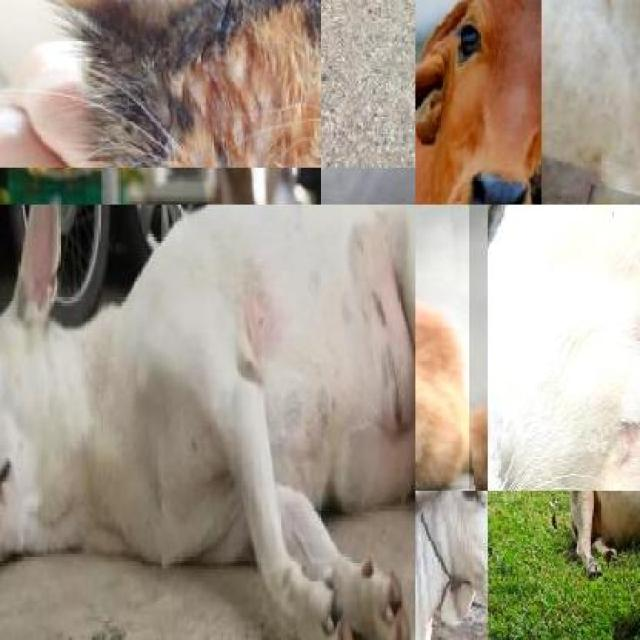cat: (0, 0, 320, 168), (487, 204, 640, 490)
cow: (416, 0, 542, 205), (541, 0, 640, 204), (451, 0, 542, 148), (575, 491, 640, 575)
dog: (0, 212, 415, 639)
injured: (604, 283, 640, 472), (575, 183, 640, 205)
